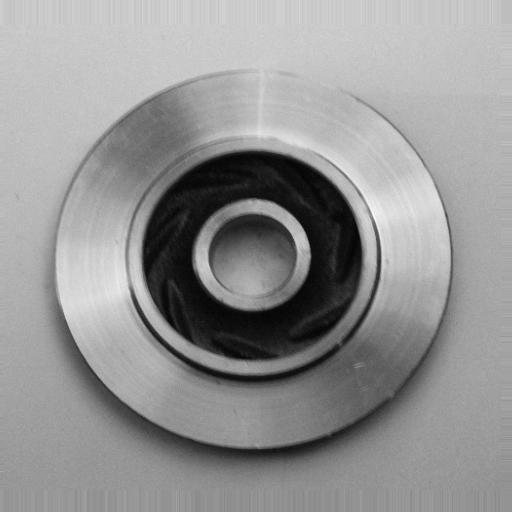unpolished_casting: (49, 65, 455, 451)
